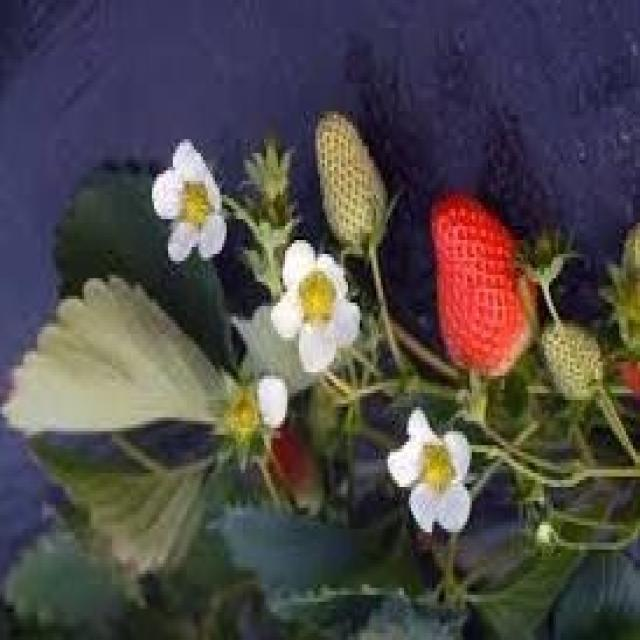strawberry: (431, 190, 540, 380), (316, 113, 390, 248), (542, 324, 604, 406)
